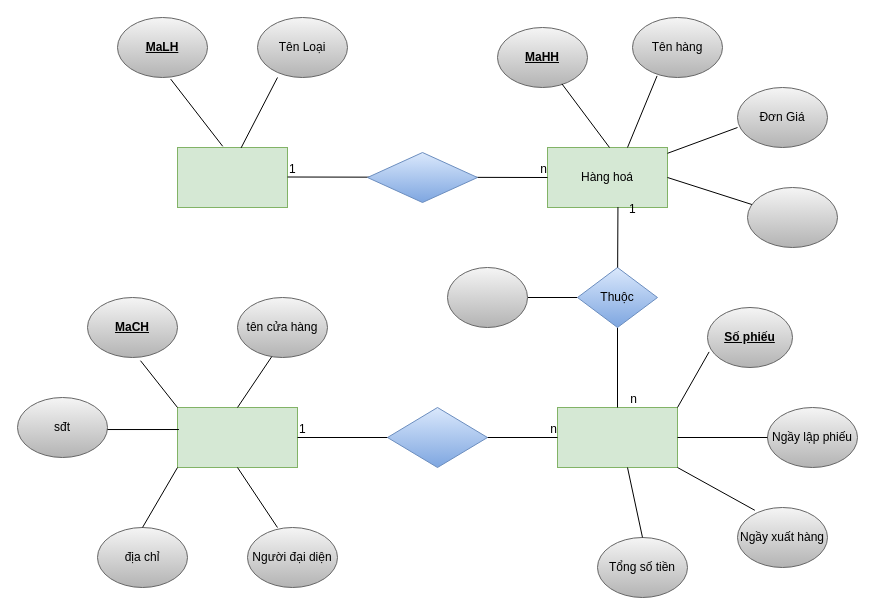
Image size: 875x615. Some labels were removed from this diagram. Here are the shapes that lost their labels. From the top down, the box of each, then its label:
(176, 146, 288, 208): Loại hàng
(366, 152, 478, 202): Có
(746, 186, 838, 248): Đơn Vị
(446, 266, 528, 328): Số lượng
(176, 406, 298, 468): Cửa hàng
(386, 406, 488, 468): Của
(556, 406, 678, 468): Phiếu xuất hành
